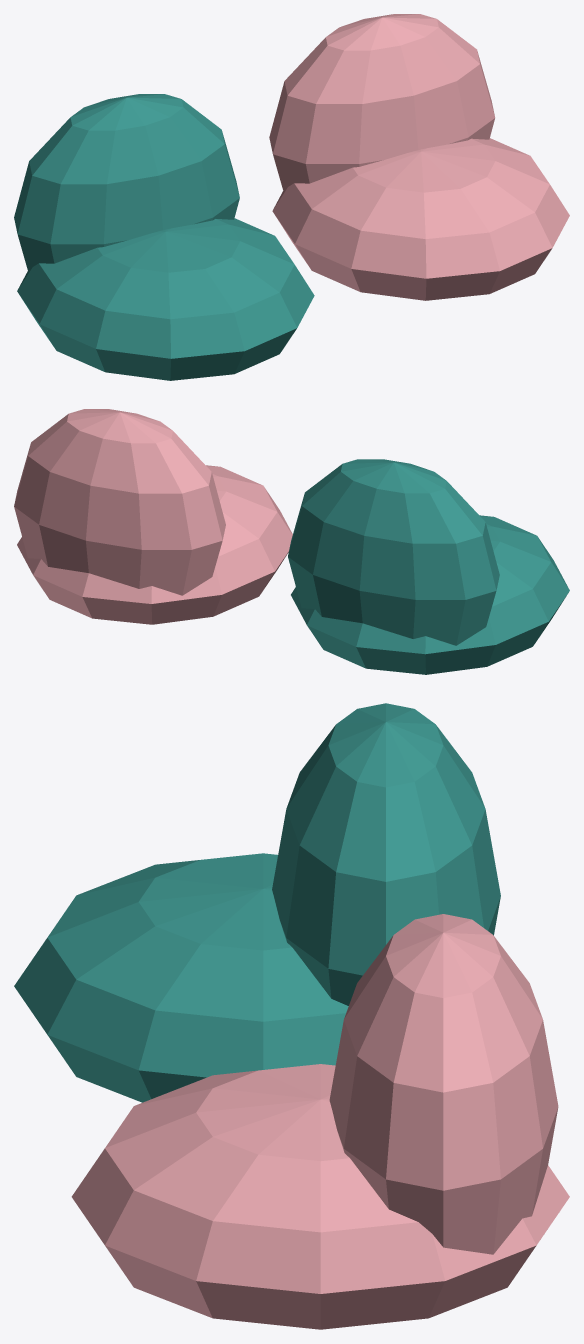
The model's file is bean_bags.glb.
3 renders of one model, top to bottom at view 1: azimuth 30°, elevation 25°; view 2: azimuth 150°, elevation 25°; view 3: azimuth 270°, elevation 25°, orthographic. The views are drawn at different scales.
Visible parts, largest first — view 1: seat, seat.001, back, back.001; view 2: back, back.001, seat, seat.001; view 3: seat.001, back.001, seat, back.
Part boxes in pixels (left/top/right/bottom): seat: left=17, top=218, right=314, bottom=380; seat.001: left=272, top=138, right=569, bottom=300; back: left=14, top=94, right=239, bottom=272; back.001: left=269, top=14, right=495, bottom=192; back: left=288, top=459, right=499, bottom=645; back.001: left=14, top=409, right=225, bottom=595; seat: left=291, top=515, right=569, bottom=674; seat.001: left=17, top=465, right=292, bottom=624; seat.001: left=71, top=1064, right=569, bottom=1329; back.001: left=329, top=914, right=558, bottom=1254; seat: left=14, top=853, right=348, bottom=1102; back: left=272, top=703, right=500, bottom=1005.
Size of the model in its own units: 2.5 by 1.04 by 1.45.
